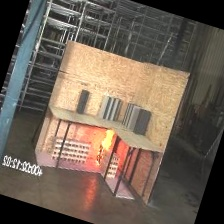fire: (85, 120, 119, 162)
